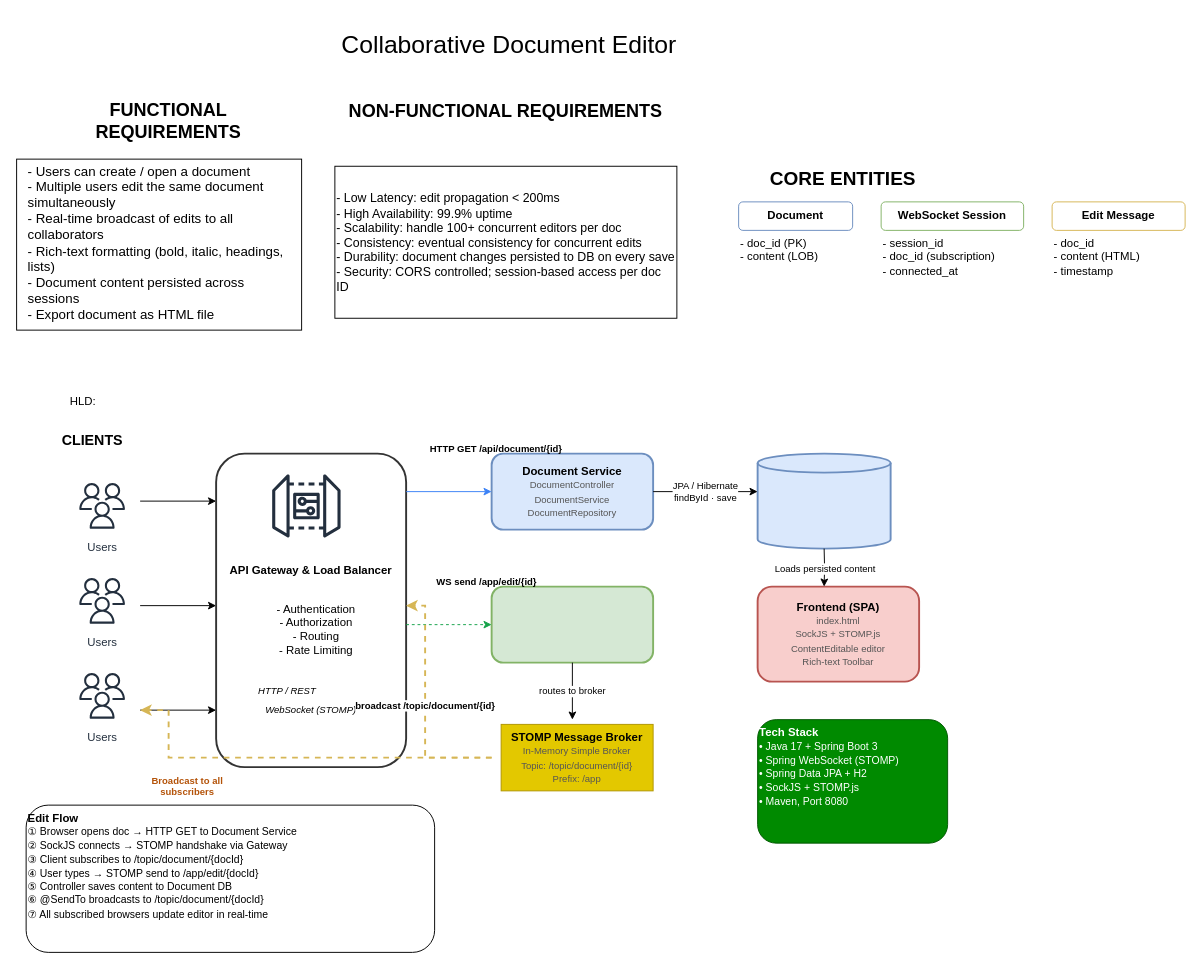
The diagram is 1202 pixels wide and 969 high, and some of its shapes have lost their labels. Each missing label, with the centre of its shape:
Document DB H2 In-Memory (dev) Table: document Cols: id, content: the point at 823,500
WebSocket Service WebSocketConfig DocSocketController STOMP Broker (/topic): the point at 572,624
